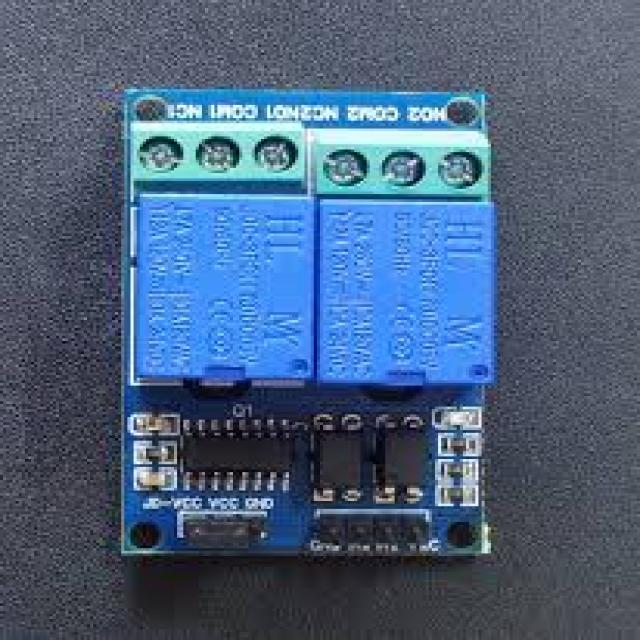Relay: (121, 87, 497, 564), (316, 201, 492, 391), (134, 197, 312, 384)
